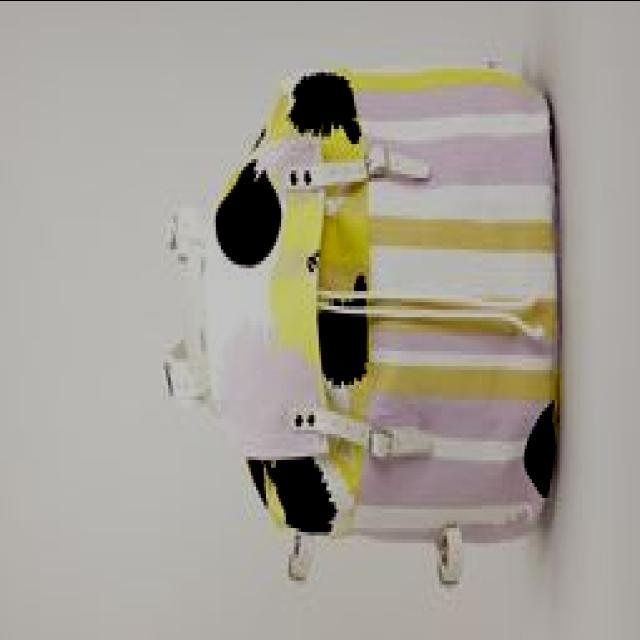backpack: (165, 65, 561, 589)
